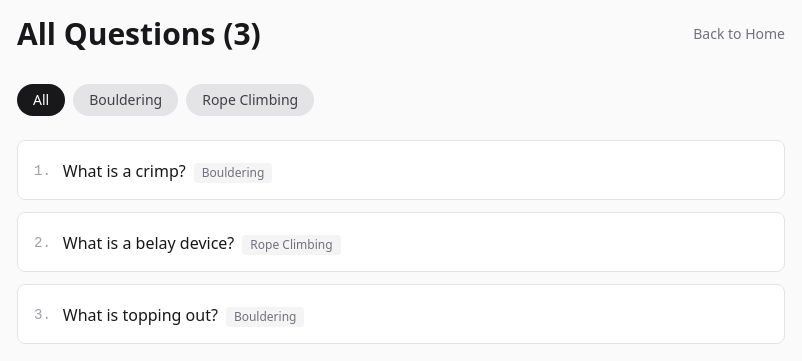
QuestionsPage › should show all questions when All button is clicked
First filter by category
Click the button "Bouldering" at (126, 100), box [73,84,178,116]
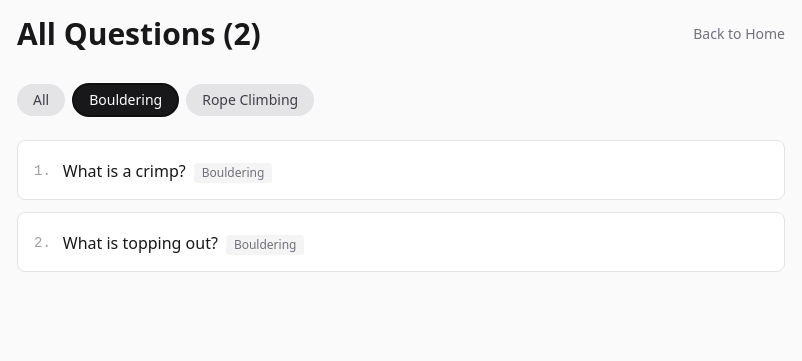
Then click All
Click the button "All" at (41, 100), box [17,84,65,116]
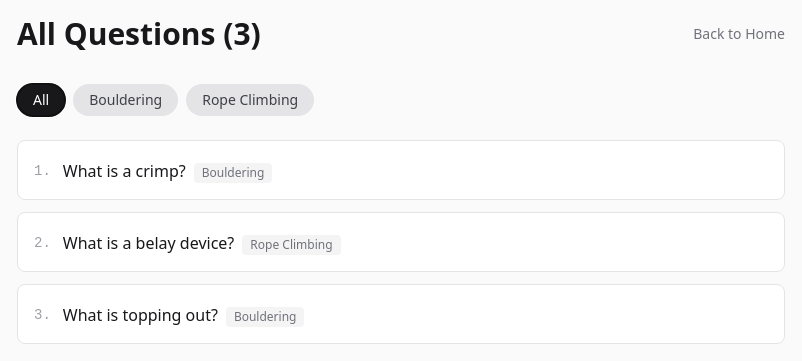
Expected: the text "What is a crimp?" is shown, [63,160,186,182]
Expected: the heading "All Questions (3)" is shown, [17,16,261,52]
Expected: the text "What is a belay device?" is shown, [63,232,234,254]
